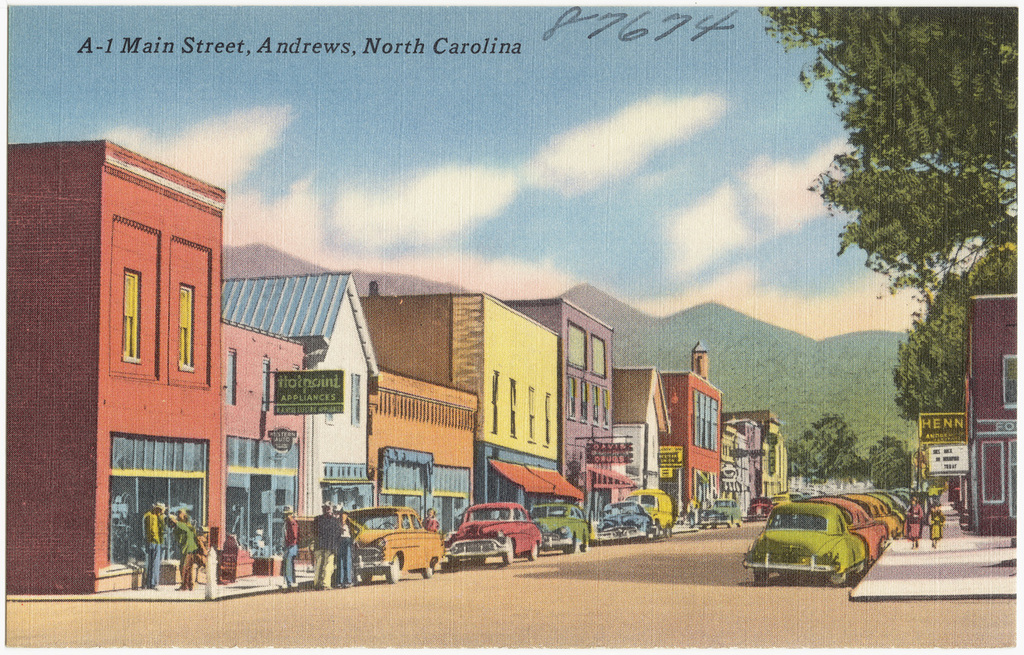Car: (742, 500, 866, 582), (342, 506, 451, 584), (815, 482, 913, 557), (440, 499, 536, 568), (525, 500, 590, 553), (589, 495, 656, 537), (692, 495, 740, 527), (745, 499, 770, 519)
